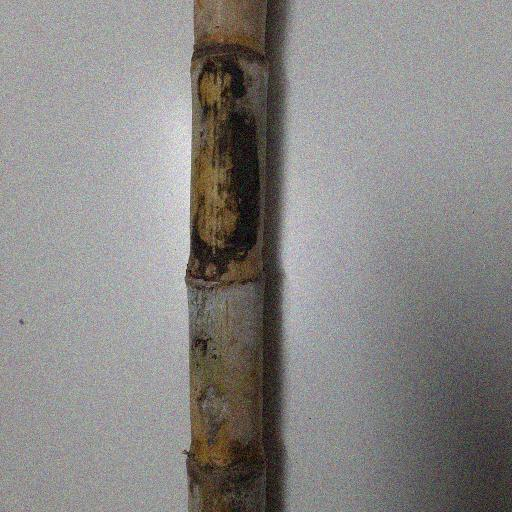Bud: (203, 261, 220, 281)
